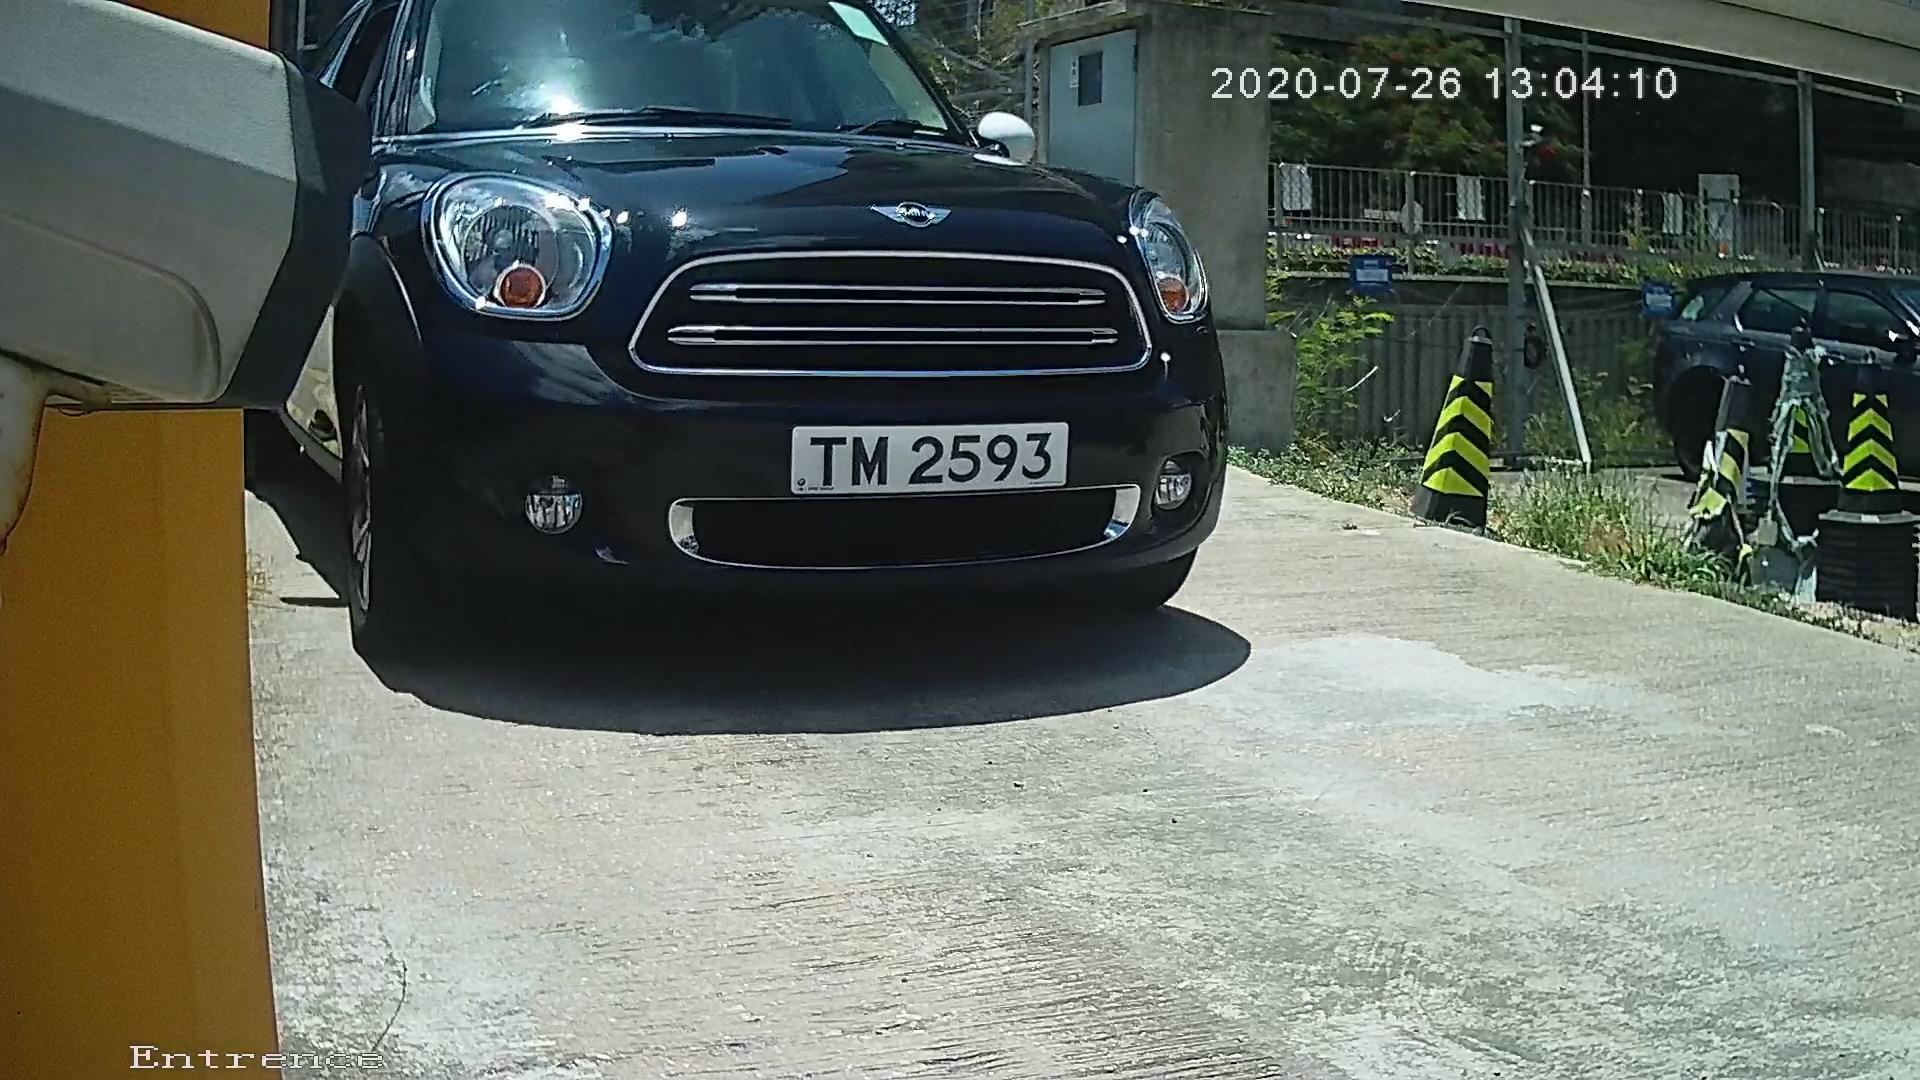privatecar: (258, 1, 1269, 690)
